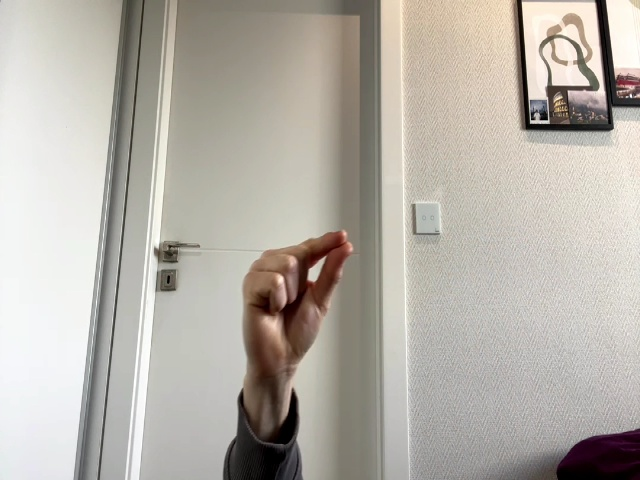P: (242, 230, 353, 374)
